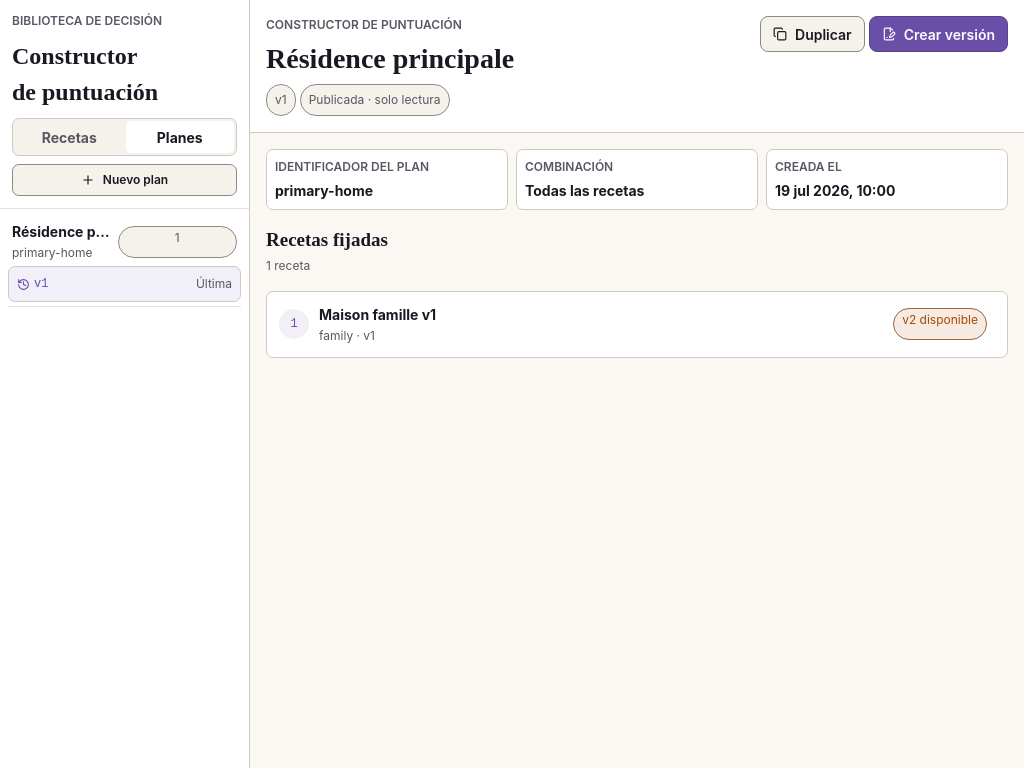
it: BuilderView › pins exact recipe versions in plan drafts and warns when a newer family version exists
Expected: the heading "Résidence principale" is shown, [266,38,514,80]
Expected: the text "v2 disponible" is shown, [893,308,987,340]
Click the button "Crear versión": (938, 34) [869,16,1008,52]
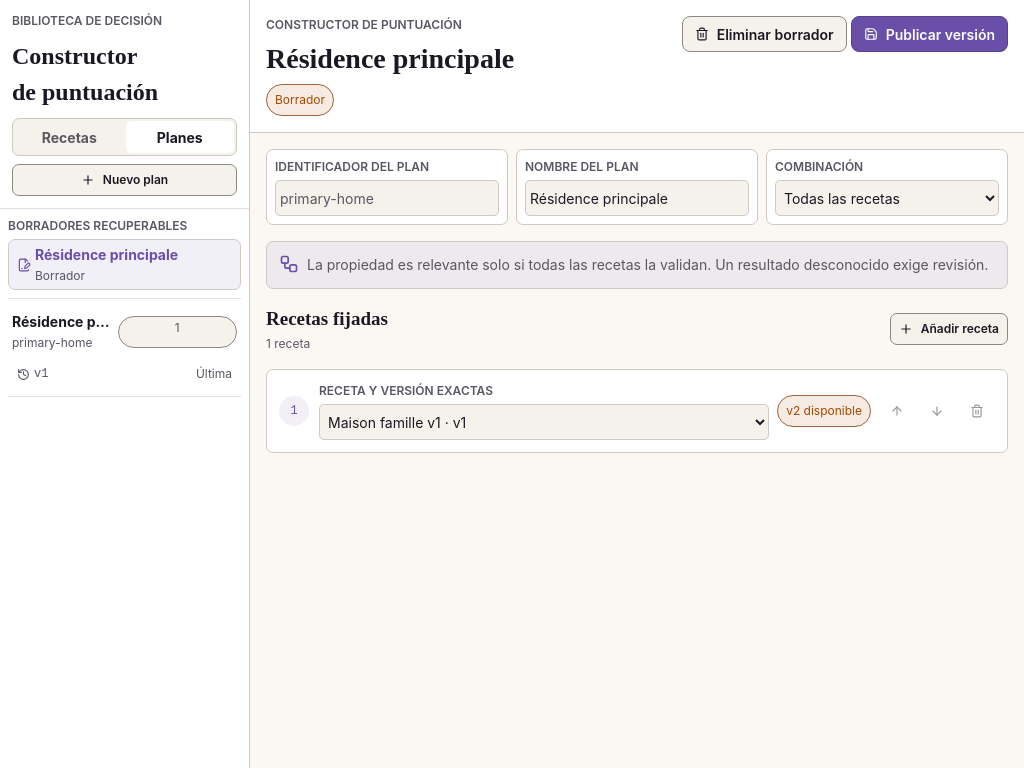
Result: the dropdown named "Receta en la posición 1" shows "Maison famille v1 · v1" at [319,404,769,440]
Click the button "Añadir receta": (949, 329) [890,313,1008,345]
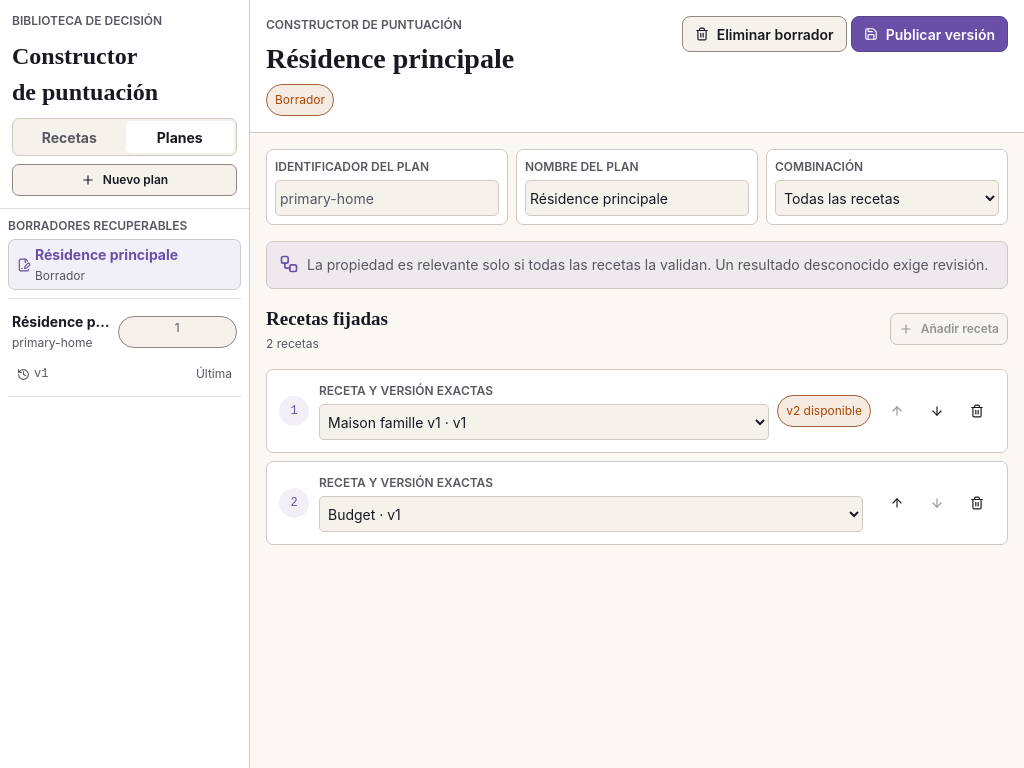
Result: the number of dropdowns named "Receta en la posición" is 2 at [319,404,769,440]; [319,496,863,532]
Result: the 2nd button named "Subir receta" is enabled at [879,485,915,521]
